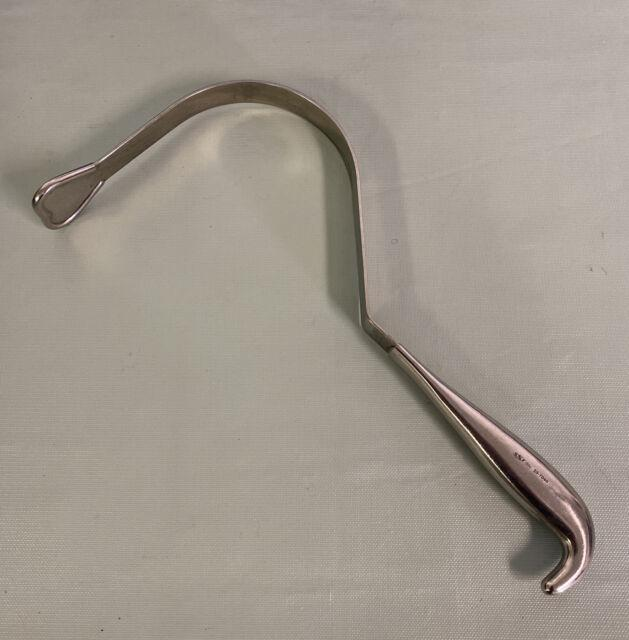Harrington Retractor: (24, 68, 597, 598)
